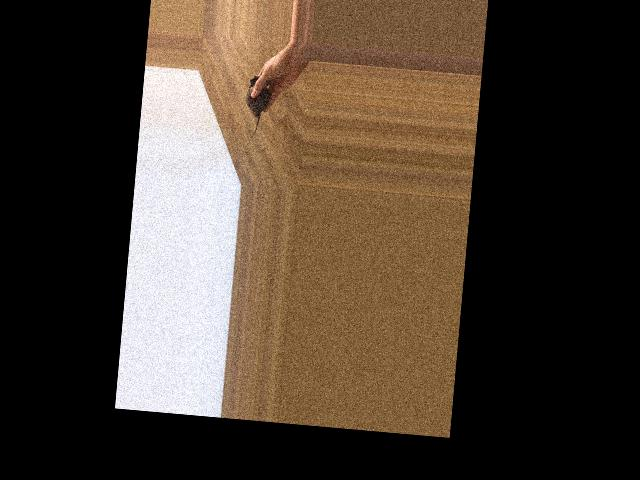beet: (243, 75, 270, 139)
